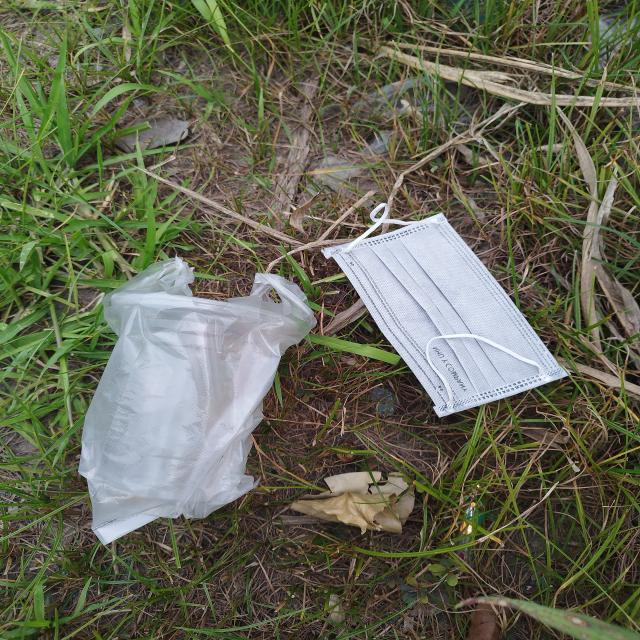mask: (321, 203, 571, 420)
trash bag: (79, 256, 319, 547)
